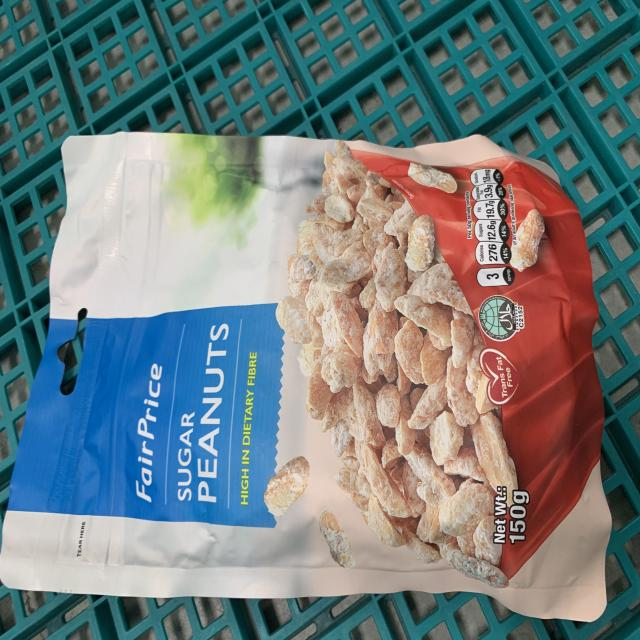object_name: (44, 139, 593, 604)
